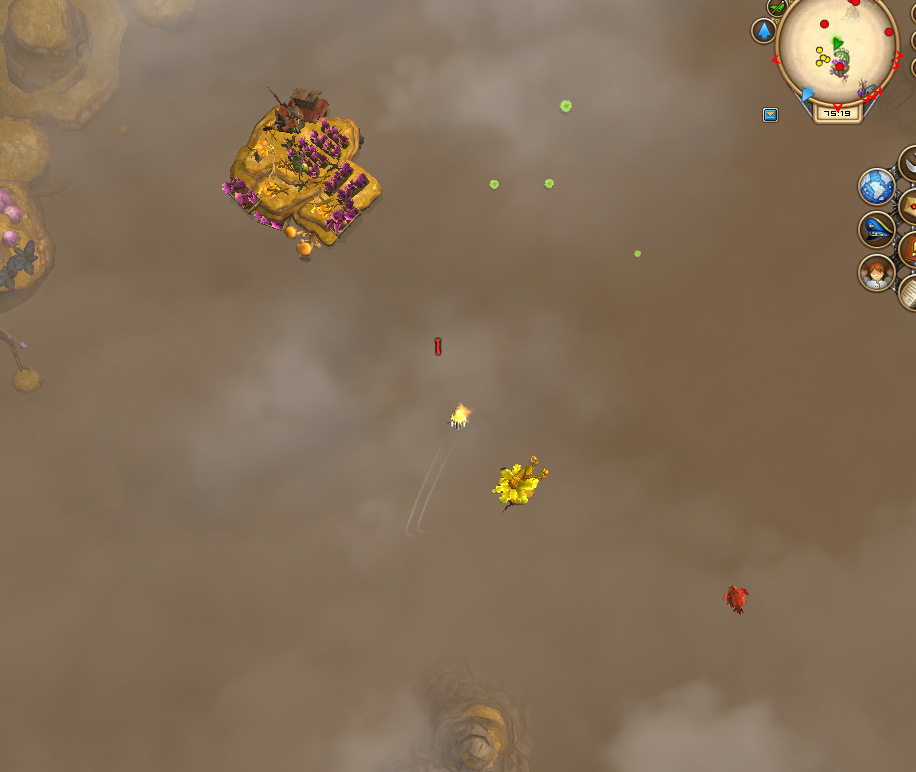dandelion-empty: (487, 448, 554, 517)
fluff: (553, 93, 577, 118), (541, 172, 556, 195), (486, 175, 504, 193), (629, 245, 647, 262)
